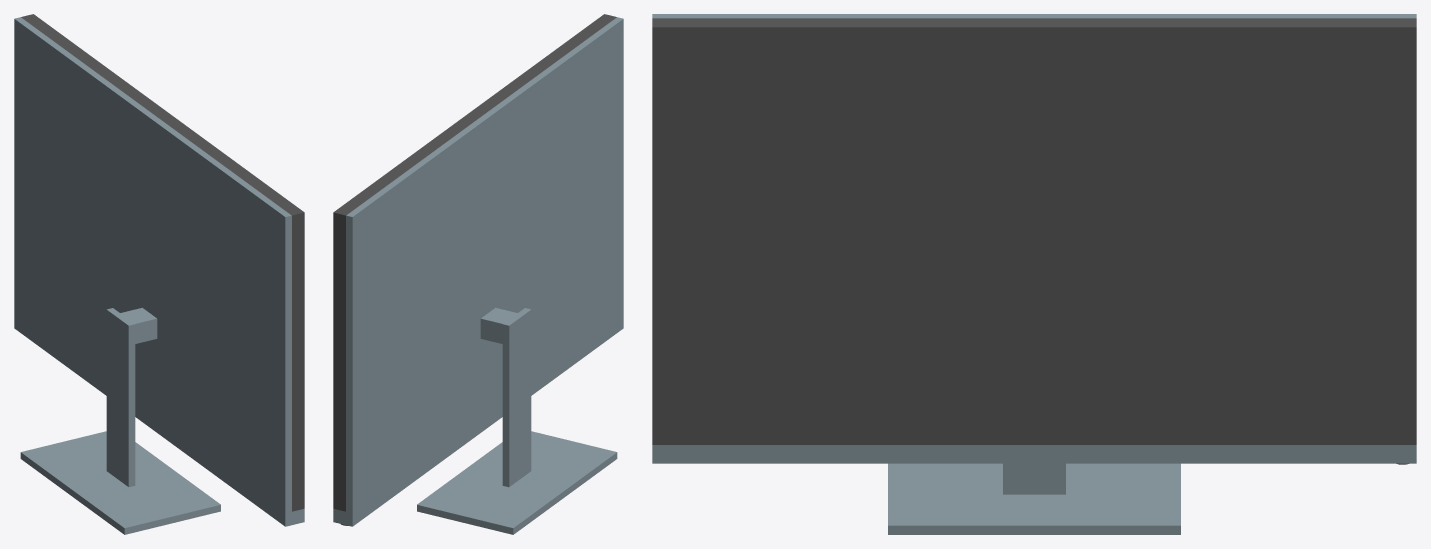
File: 显示器_260.glb
3 views of the same model, side by side, from view 1: azimuth 30°, elevation 25°; view 2: azimuth 150°, elevation 25°; view 3: azimuth 270°, elevation 25° (orthographic). The views are drawn at different scales.
Parts seen in each view (by area): view 1: group584550715, group742467431, group941242678, group76221598, group1661024036; view 2: group584550715, group742467431, group941242678, group76221598, group1661024036; view 3: group941242678, group742467431, group1929904233, group584550715, group76221598.
Part boxes in pixels (x1,y1,x2,y2): group584550715: (14,17,291,526); group742467431: (20,431,220,534); group941242678: (21,14,304,511); group76221598: (106,308,135,487); group1661024036: (120,307,157,343); group584550715: (346,17,623,526); group742467431: (417,431,617,534); group941242678: (333,14,616,511); group76221598: (502,308,531,487); group1661024036: (480,307,517,343); group941242678: (652,18,1416,444); group742467431: (888,463,1180,534); group1929904233: (652,445,1416,463); group584550715: (652,14,1416,18); group76221598: (1003,463,1065,494).
Size of the model in its own units: 0.15 by 0.535 by 0.73.
